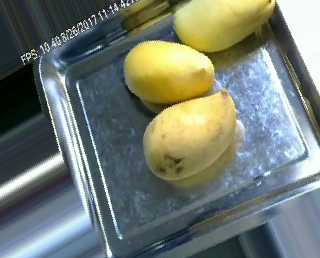Mango: (142, 89, 237, 180), (123, 40, 214, 104), (172, 0, 276, 53)
